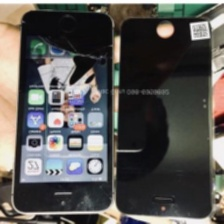phone: (7, 7, 117, 217), (111, 12, 219, 221)
